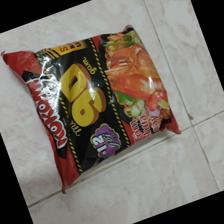Kokomi: (1, 22, 182, 195)
